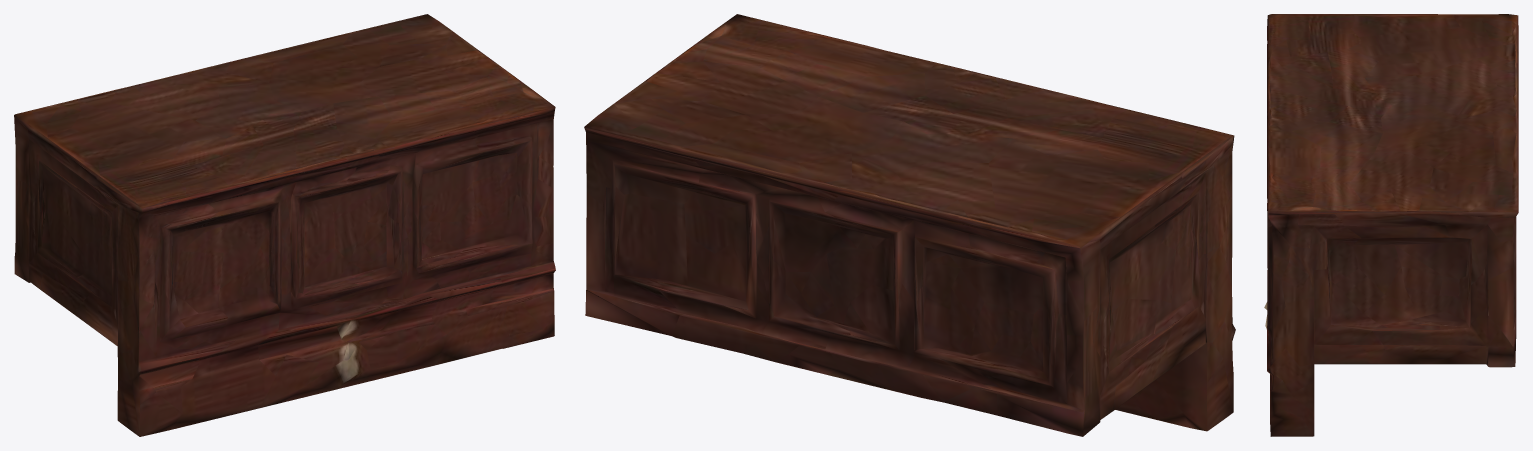
Rendered from 木质护墙板.glb.
3 views of the same model, side by side, from view 1: azimuth 30°, elevation 25°; view 2: azimuth 150°, elevation 25°; view 3: azimuth 270°, elevation 25° (orthographic). The views are drawn at different scales.
Parts seen in each view (by area): view 1: tripo_node_cc2882de-623d-4a24-8631-9d44b44a9957; view 2: tripo_node_cc2882de-623d-4a24-8631-9d44b44a9957; view 3: tripo_node_cc2882de-623d-4a24-8631-9d44b44a9957.
Part boxes in pixels (x1,y1,x2,y2): tripo_node_cc2882de-623d-4a24-8631-9d44b44a9957: [14, 14, 555, 436]; tripo_node_cc2882de-623d-4a24-8631-9d44b44a9957: [584, 14, 1235, 436]; tripo_node_cc2882de-623d-4a24-8631-9d44b44a9957: [1264, 14, 1518, 436].
Bounding box in the file's own units: 0.9995 × 0.5307 × 0.5423.
Materials: 1 (1 with a texture image).
